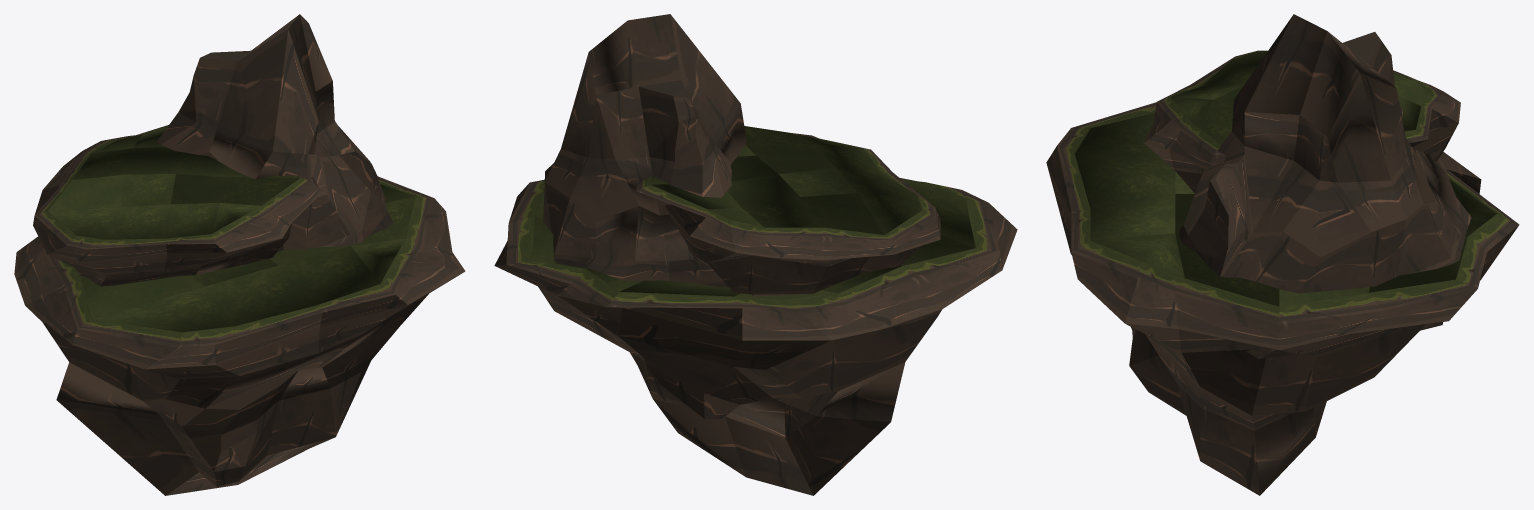
Rendered from eiland_Variatie_1.FBX.
3 renders of one model, left to right at view 1: azimuth 30°, elevation 25°; view 2: azimuth 150°, elevation 25°; view 3: azimuth 270°, elevation 25°, orthographic. The views are drawn at different scales.
Visible parts, largest first — view 1: land_013, land_014, land_015; view 2: land_013, land_015, land_014; view 3: land_013, land_015, land_014.
Part boxes in pixels (x1,y1,x2,y2): land_013: [14, 176, 465, 495]; land_014: [33, 125, 320, 286]; land_015: [156, 14, 393, 249]; land_013: [494, 177, 1017, 495]; land_015: [543, 14, 746, 309]; land_014: [636, 126, 940, 296]; land_013: [1046, 102, 1519, 495]; land_015: [1179, 14, 1471, 359]; land_014: [1144, 50, 1460, 193].
Size of the model in its own units: 445 by 441 by 375.
